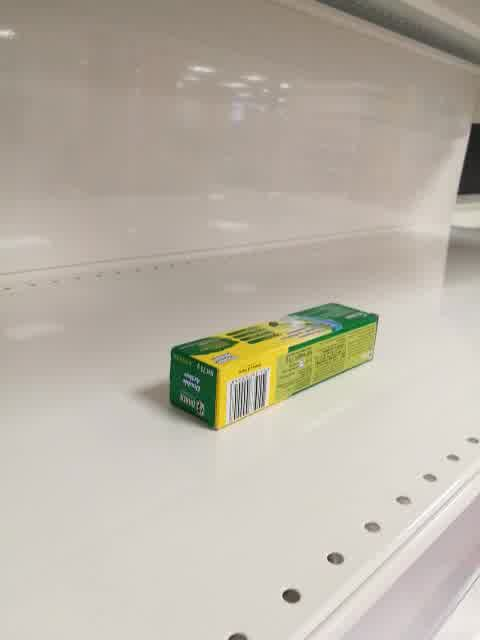toothpaste: (168, 302, 380, 431)
